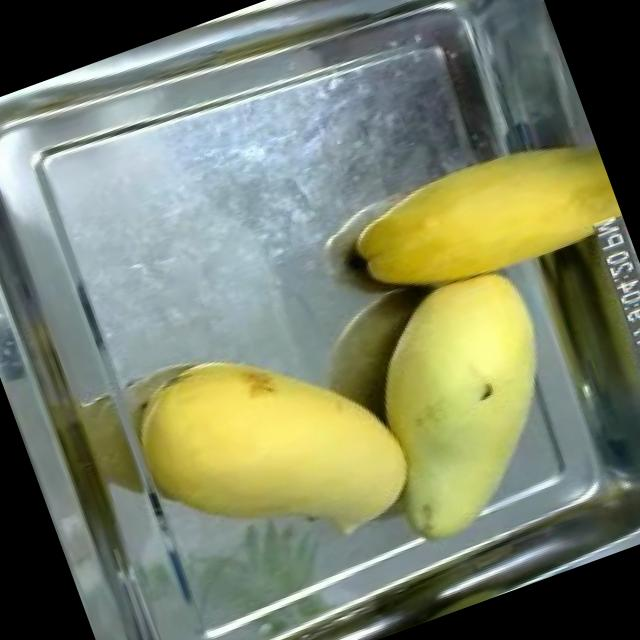fruit: (106, 293, 438, 601), (327, 243, 603, 557), (320, 108, 632, 336)
